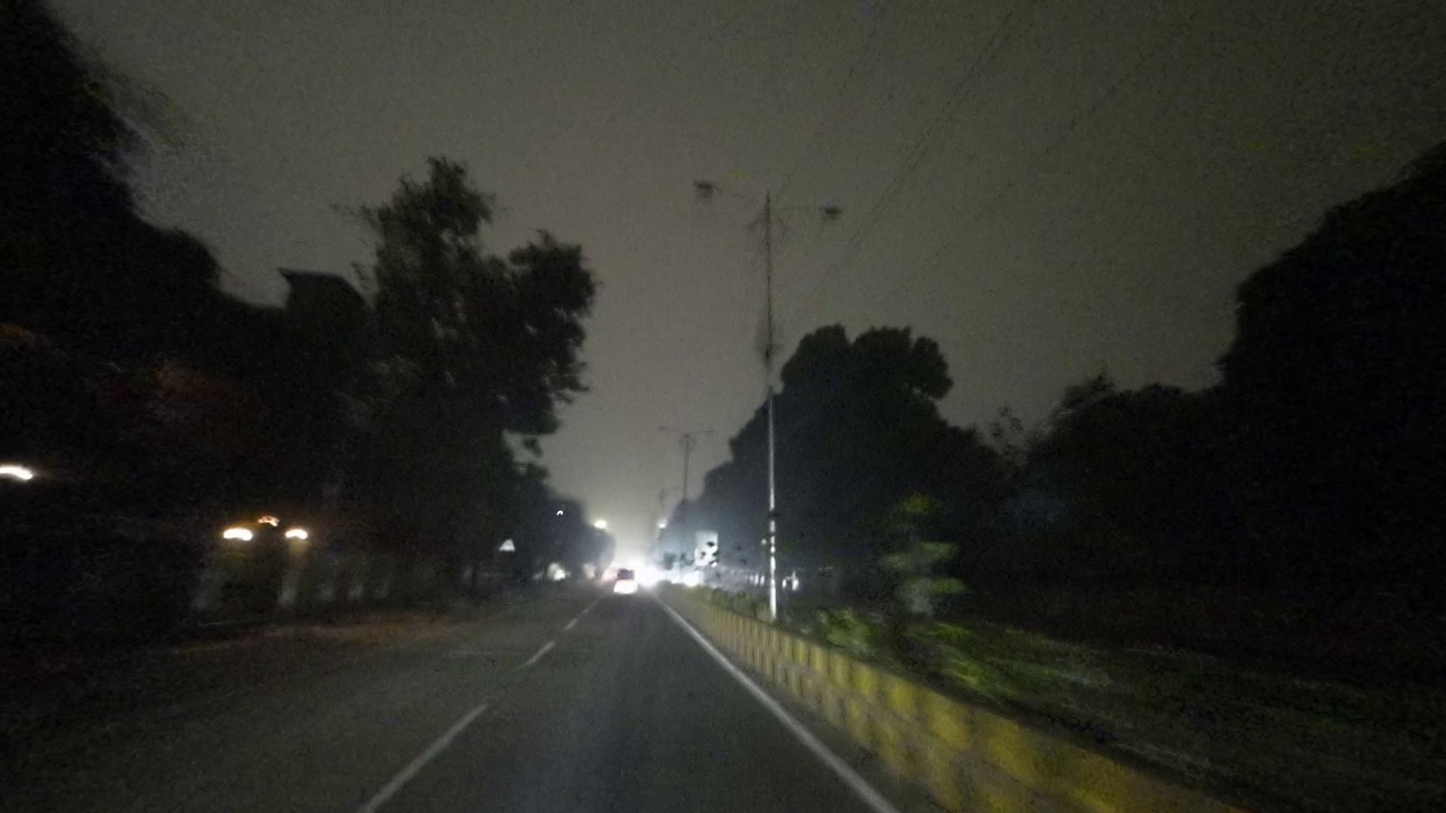streetlight: (691, 177, 764, 208), (774, 197, 848, 220)
